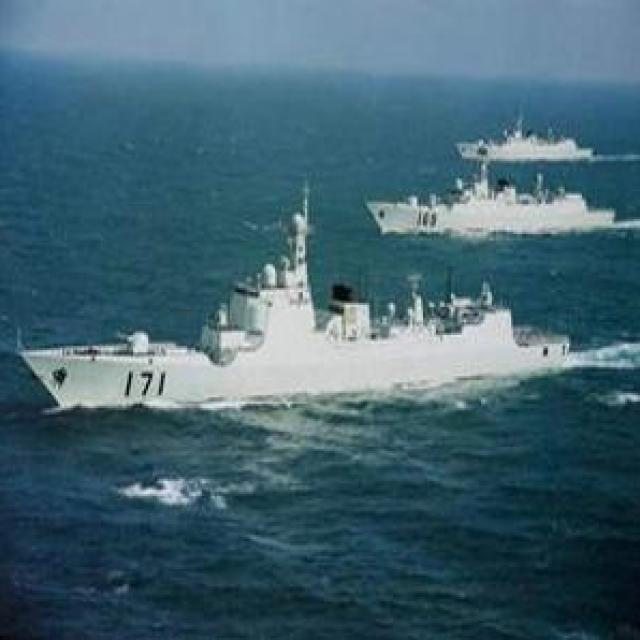navalvessels: (21, 192, 568, 411), (359, 161, 597, 238), (454, 107, 595, 160)
